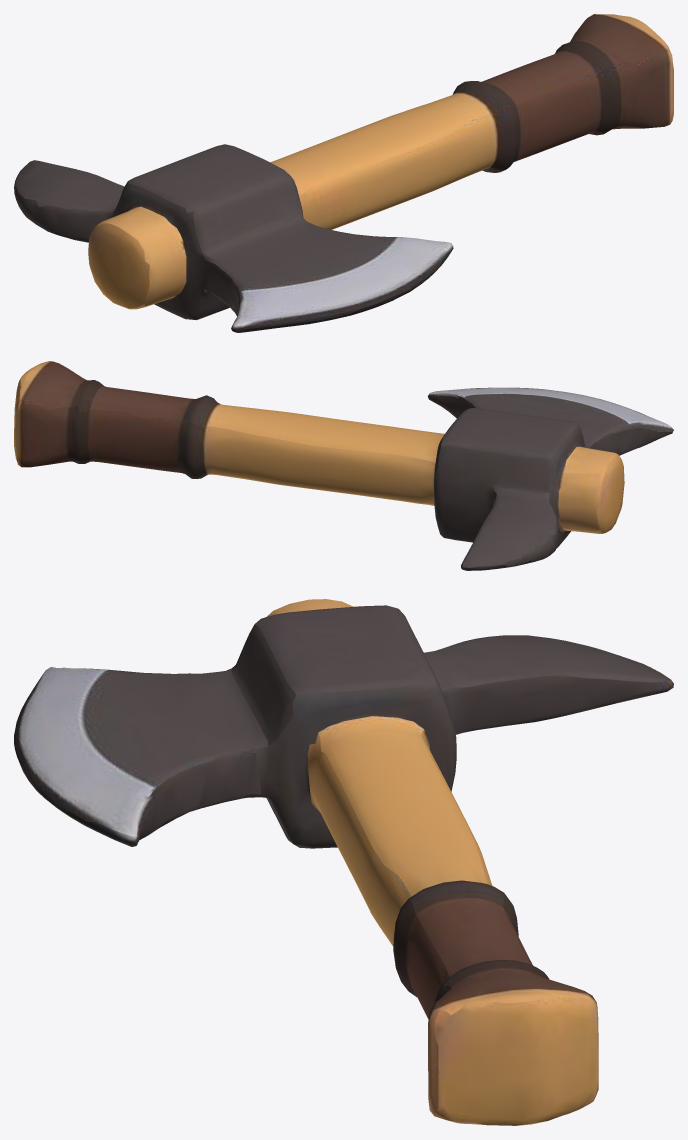
The model's file is axe.glb.
3 views of the same model, one above another, from view 1: azimuth 30°, elevation 25°; view 2: azimuth 150°, elevation 25°; view 3: azimuth 270°, elevation 25° (orthographic). The views are drawn at different scales.
Visible parts, largest first — view 1: item_axe; view 2: item_axe; view 3: item_axe.
Boxes of the visible parts, <box> form: item_axe: <box>14,14,673,332</box>; item_axe: <box>14,361,673,570</box>; item_axe: <box>14,599,673,1125</box>.
Size of the model in its own units: 1 by 0.1802 by 0.6604.
1 material, 1 textured.
